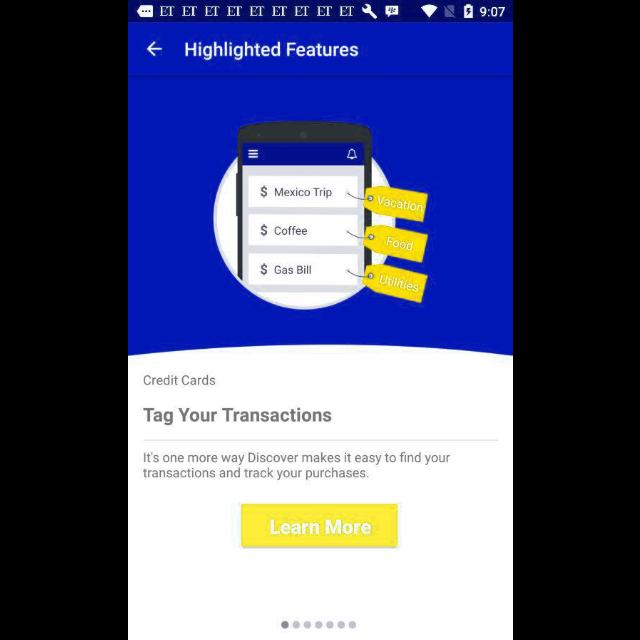icon: (146, 42, 162, 56)
image: (211, 121, 427, 309)
pageindicator: (280, 620, 356, 630)
text: (142, 452, 450, 481), (184, 41, 358, 61), (142, 408, 332, 426), (143, 374, 215, 386)
textbutton: (241, 504, 397, 548)
toolbar: (128, 24, 512, 76)
uppertaskbar: (128, 1, 512, 23)
